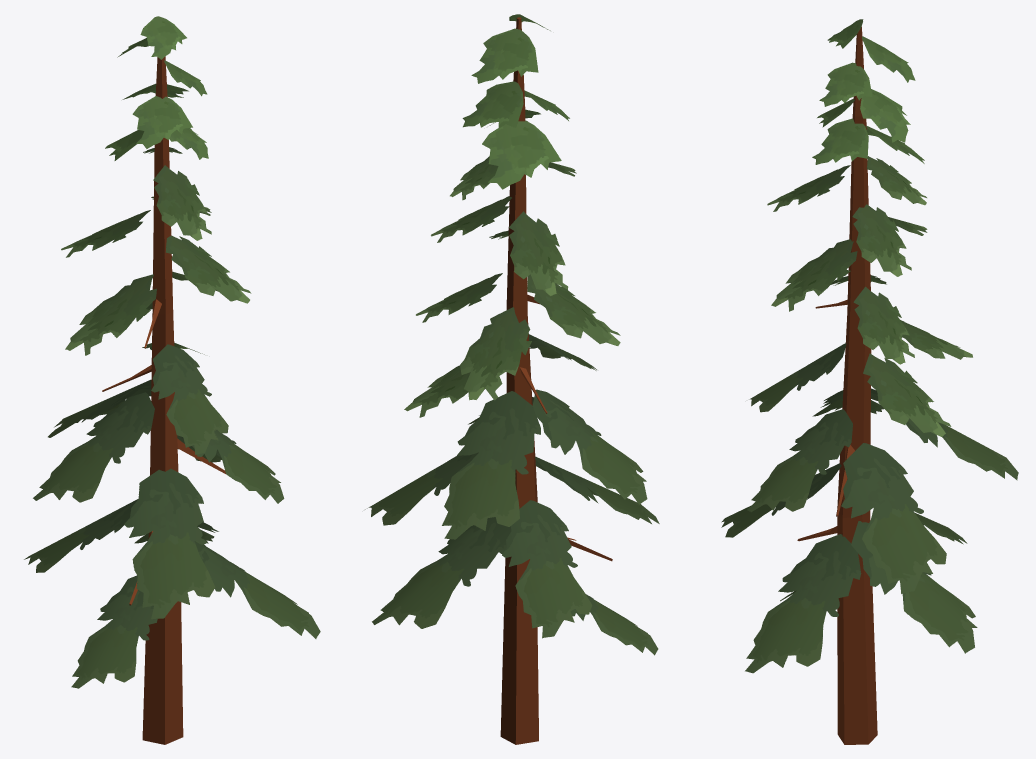
3 views of the same model, side by side, from view 1: azimuth 30°, elevation 25°; view 2: azimuth 150°, elevation 25°; view 3: azimuth 270°, elevation 25° (orthographic).
Parts seen in each view (by area): view 1: trunk_0, frond_7, frond.001_8, frond.006_12, frond.014_21, frond.005_11, frond.017_24, frond.022_29, frond.016_23, frond.015_22, frond.013_20, frond.024_31 (+5 smaller); view 2: trunk_0, frond.003_9, frond.013_20, frond.012_19, frond.001_8, frond.018_25, frond.011_18, frond.023_30, frond.017_24, frond.010_17, frond.004_10, frond.009_16 (+7 smaller); view 3: trunk_0, frond.004_10, frond.005_11, frond.015_22, frond.012_19, frond.019_26, frond.020_27, frond.016_23, frond.021_28, frond.003_9, frond.014_21, frond.008_15 (+8 smaller).
Boxes of the visible parts, x1,y1,x2,y2 form: trunk_0: [142, 56, 183, 744]; frond_7: [124, 468, 215, 619]; frond.001_8: [33, 392, 154, 502]; frond.006_12: [71, 575, 157, 688]; frond.014_21: [151, 344, 228, 454]; frond.005_11: [194, 541, 320, 638]; frond.017_24: [65, 274, 156, 355]; frond.022_29: [153, 165, 211, 240]; frond.016_23: [165, 235, 251, 303]; frond.015_22: [192, 429, 284, 503]; frond.013_20: [24, 499, 137, 572]; frond.024_31: [132, 96, 192, 148]; trunk_0: [500, 17, 538, 744]; frond.003_9: [442, 391, 540, 539]; frond.013_20: [502, 500, 592, 638]; frond.012_19: [372, 517, 511, 628]; frond.001_8: [532, 389, 647, 504]; frond.018_25: [460, 307, 531, 400]; frond.011_18: [482, 120, 561, 189]; frond.023_30: [509, 211, 568, 295]; frond.017_24: [527, 274, 620, 345]; frond.010_17: [471, 28, 538, 83]; frond.004_10: [365, 452, 478, 525]; frond.009_16: [462, 81, 523, 128]; trunk_0: [837, 26, 877, 744]; frond.004_10: [841, 443, 946, 593]; frond.005_11: [745, 534, 861, 673]; frond.015_22: [747, 409, 852, 512]; frond.012_19: [851, 521, 977, 653]; frond.019_26: [863, 353, 951, 436]; frond.020_27: [853, 286, 914, 364]; frond.016_23: [771, 239, 857, 311]; frond.021_28: [852, 204, 911, 276]; frond.003_9: [906, 418, 1018, 480]; frond.014_21: [749, 343, 846, 412]; frond.008_15: [812, 118, 868, 164].
Size of the model in its own units: 4.68 by 11.98 by 4.86.
4 materials, 3 textured.
